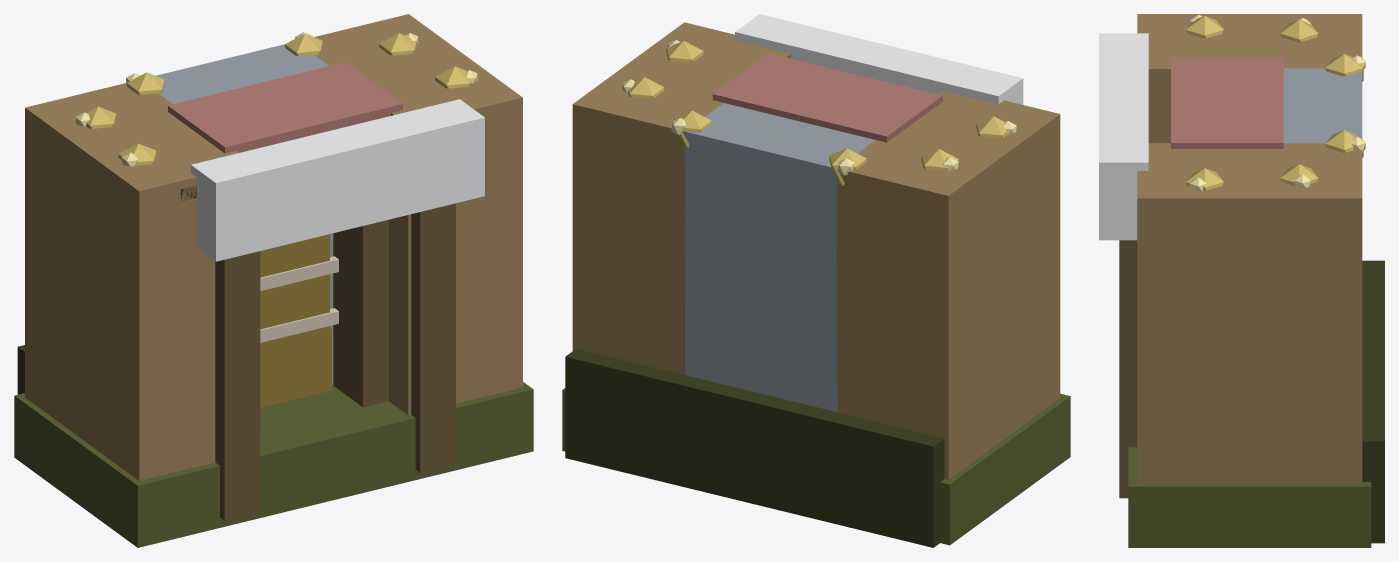
Rendered from inf_hocker_upper_torso.fbx.
The picture shows the model from 3 angles, left to right: view 1: azimuth 30°, elevation 25°; view 2: azimuth 150°, elevation 25°; view 3: azimuth 270°, elevation 25°; orthographic projection. The views are drawn at different scales.
Parts seen in each view (by area): view 1: inf_hocker_upper_torso; view 2: inf_hocker_upper_torso; view 3: inf_hocker_upper_torso.
Boxes of the visible parts, left/top/right/bottom form: inf_hocker_upper_torso: left=14, top=14, right=533, bottom=547; inf_hocker_upper_torso: left=562, top=14, right=1070, bottom=547; inf_hocker_upper_torso: left=1099, top=14, right=1384, bottom=547.
Bounding box in the file's own units: 200 × 177 × 127.
